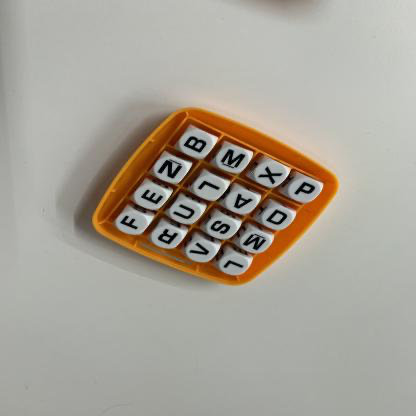a: (225, 191, 259, 215)
b: (180, 131, 215, 159)
d: (263, 207, 294, 231)
e: (134, 185, 169, 210)
f: (116, 211, 150, 236)
l: (195, 175, 228, 200), (220, 255, 250, 277)
m: (216, 148, 250, 174), (240, 232, 272, 255)
n: (155, 157, 189, 184)
p: (288, 180, 323, 204)
r: (152, 226, 184, 251)
s: (206, 217, 239, 241)
u: (170, 201, 204, 226)
v: (187, 241, 218, 264)
x: (256, 163, 288, 188)
